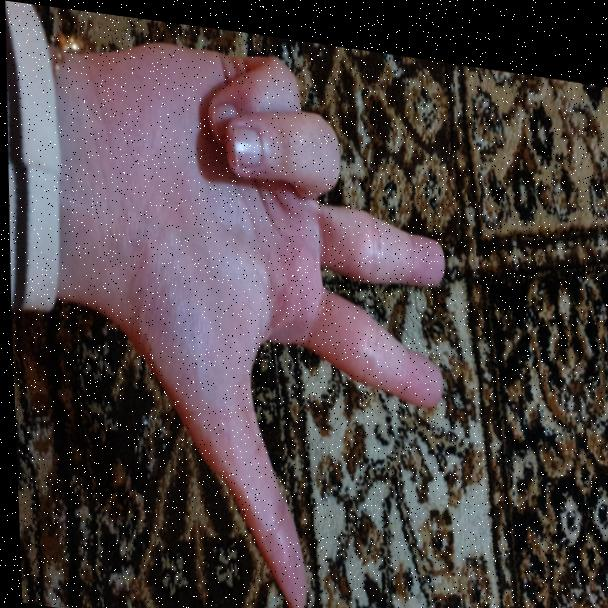three: (56, 24, 462, 608)
